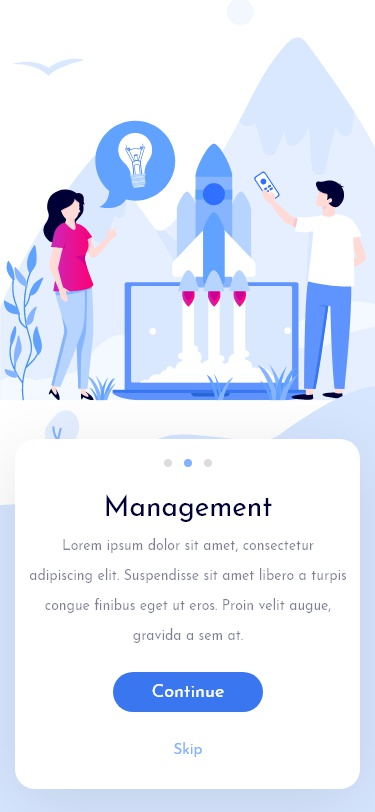Card: (15, 438, 361, 790)
Image: (1, 1, 375, 439)
PageIndicator: (163, 458, 214, 469)
Text: (30, 537, 347, 644), (106, 494, 272, 523), (174, 741, 203, 758)
TextButton: (113, 672, 264, 712)
